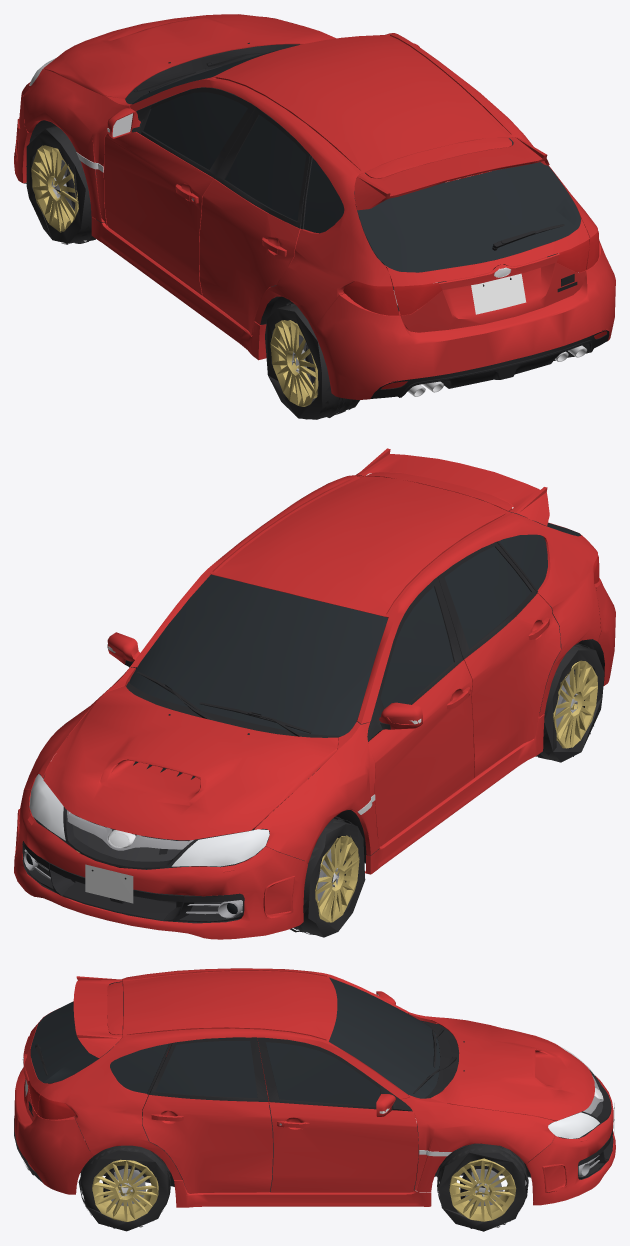
File: impreza.glb
The picture shows the model from 3 angles, top to bottom: view 1: azimuth 30°, elevation 25°; view 2: azimuth 150°, elevation 25°; view 3: azimuth 270°, elevation 25°; orthographic projection. The views are drawn at different scales.
Visible parts, largest first — view 1: body, wheel_rl, wheel_fl; view 2: body, wheel_fl, wheel_rl; view 3: body, wheel_fr, wheel_rr.
Boxes of the visible parts, x1,y1,x2,y2 form: body: [14, 14, 615, 399]; wheel_rl: [265, 301, 359, 419]; wheel_fl: [26, 126, 105, 244]; body: [14, 448, 615, 939]; wheel_fl: [275, 816, 365, 937]; wheel_rl: [535, 643, 604, 762]; body: [14, 968, 615, 1207]; wheel_fr: [436, 1143, 528, 1231]; wheel_rr: [78, 1145, 170, 1231].
Size of the model in its own units: 1.99 by 1.51 by 4.42.
